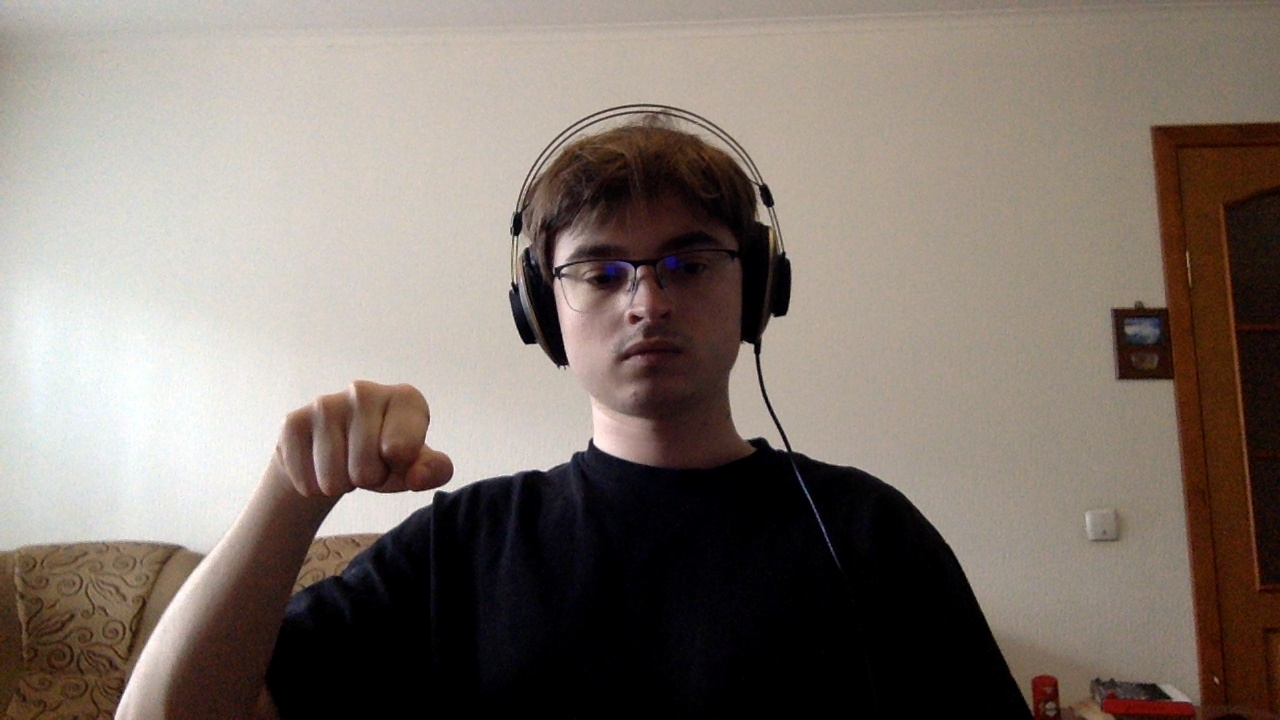yes: (231, 344, 493, 547)
